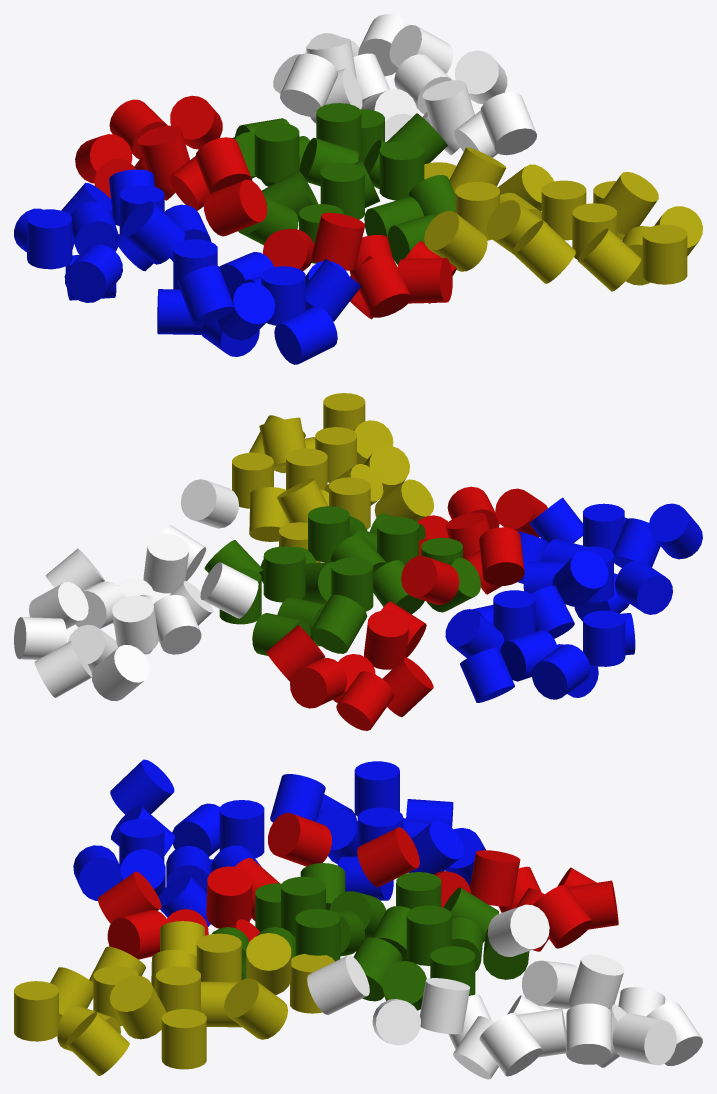
Rendered from pellet_plastic.fbx.
3 renders of one model, top to bottom at view 1: azimuth 30°, elevation 25°; view 2: azimuth 150°, elevation 25°; view 3: azimuth 270°, elevation 25°, orthographic. The views are drawn at different scales.
Parts seen in each view (by area): view 1: pellet plastik merah007, pellet plastik putih 1, pellet plastik biru004, pellet plastik biru017, pellet plastik kuning013, pellet plastik kuning, pellet plastik putih 009, pellet plastik merah, pellet plastik biru019, pellet plastik hijau016, pellet plastik biru022, pellet plastik biru007 (+59 smaller); view 2: pellet plastik merah007, pellet plastik putih 013, pellet plastik biru020, pellet plastik hijau017, pellet plastik biru010, pellet plastik merah013, pellet plastik merah015, pellet plastik putih 2, pellet plastik biru017, pellet plastik hijau013, pellet plastik putih 1, pellet plastik merah016 (+61 smaller); view 3: pellet plastik kuning006, pellet plastik putih 011, pellet plastik putih 016, pellet plastik merah007, pellet plastik kuning015, pellet plastik kuning012, pellet plastik kuning013, pellet plastik putih 1, pellet plastik merah016, pellet plastik merah006, pellet plastik putih 009, pellet plastik putih 8 (+62 smaller).
Boxes of the visible parts, <box> form: pellet plastik merah007: <box>204,179,266,236</box>; pellet plastik putih 1: <box>480,92,536,155</box>; pellet plastik biru004: <box>274,306,337,364</box>; pellet plastik biru017: <box>27,209,72,269</box>; pellet plastik kuning013: <box>642,224,687,284</box>; pellet plastik kuning: <box>424,210,487,271</box>; pellet plastik putih 009: <box>280,53,337,116</box>; pellet plastik merah: <box>352,255,411,317</box>; pellet plastik biru019: <box>121,201,185,264</box>; pellet plastik hijau016: <box>254,122,299,182</box>; pellet plastik biru022: <box>64,244,122,302</box>; pellet plastik biru007: <box>177,265,234,325</box>; pellet plastik merah007: <box>479,527,524,585</box>; pellet plastik putih 013: <box>92,645,149,701</box>; pellet plastik biru020: <box>532,644,590,699</box>; pellet plastik hijau017: <box>310,594,367,653</box>; pellet plastik biru010: <box>615,561,672,614</box>; pellet plastik merah013: <box>336,671,394,730</box>; pellet plastik merah015: <box>364,610,409,669</box>; pellet plastik putih 2: <box>143,534,189,593</box>; pellet plastik biru017: <box>583,610,625,666</box>; pellet plastik hijau013: <box>263,546,305,602</box>; pellet plastik putih 1: <box>180,479,238,528</box>; pellet plastik merah016: <box>401,555,459,604</box>; pellet plastik kuning006: <box>224,978,287,1039</box>; pellet plastik putih 011: <box>612,1013,676,1065</box>; pellet plastik putih 016: <box>566,1003,611,1064</box>; pellet plastik merah007: <box>268,813,331,866</box>; pellet plastik kuning015: <box>161,1009,206,1069</box>; pellet plastik kuning012: <box>109,975,166,1039</box>; pellet plastik kuning013: <box>14,981,58,1041</box>; pellet plastik putih 1: <box>307,955,369,1014</box>; pellet plastik merah016: <box>357,827,419,887</box>; pellet plastik merah006: <box>206,866,252,928</box>; pellet plastik putih 009: <box>487,904,549,956</box>; pellet plastik putih 8: <box>479,1012,542,1076</box>.
Bounding box in the file's own units: 332 × 68.26 × 361.
